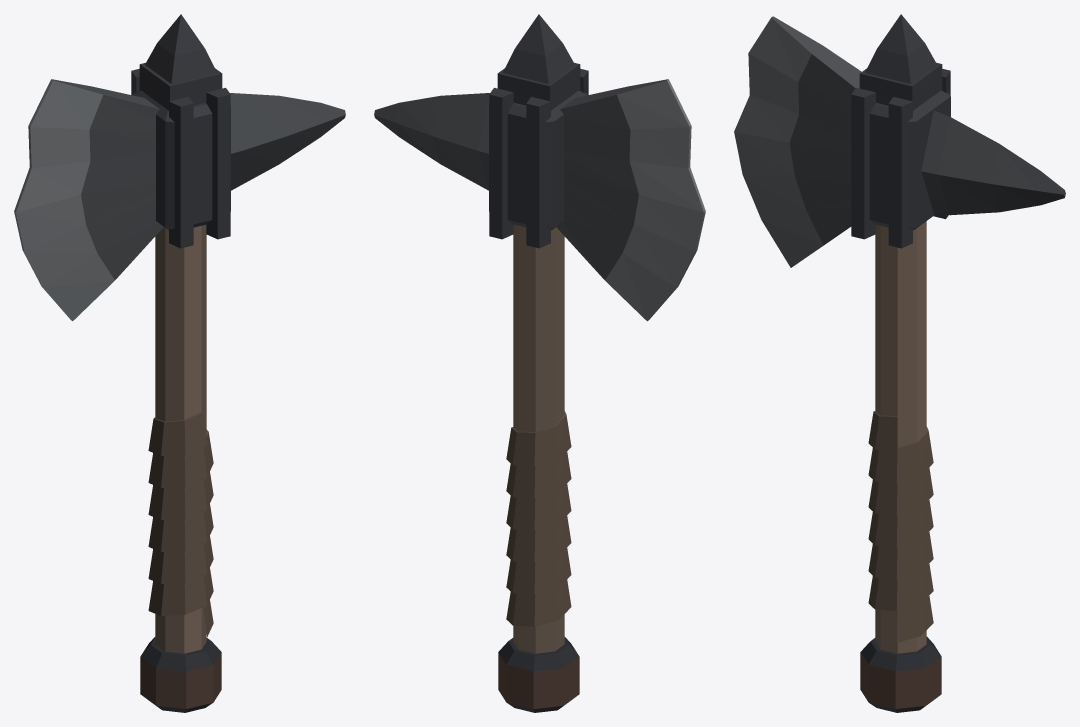
Rendered from hand-axe-cee9e7.glb.
The picture shows the model from 3 angles, left to right: view 1: azimuth 30°, elevation 25°; view 2: azimuth 150°, elevation 25°; view 3: azimuth 330°, elevation 25°; orthographic projection.
Parts seen in each view (by area): view 1: hand-axe-mesh; view 2: hand-axe-mesh; view 3: hand-axe-mesh.
Part boxes in pixels (x1,y1,x2,y2): hand-axe-mesh: [14, 14, 345, 712]; hand-axe-mesh: [374, 14, 705, 712]; hand-axe-mesh: [734, 14, 1065, 712].
Bounding box in the file's own units: 0.302 × 0.6 × 0.078.
